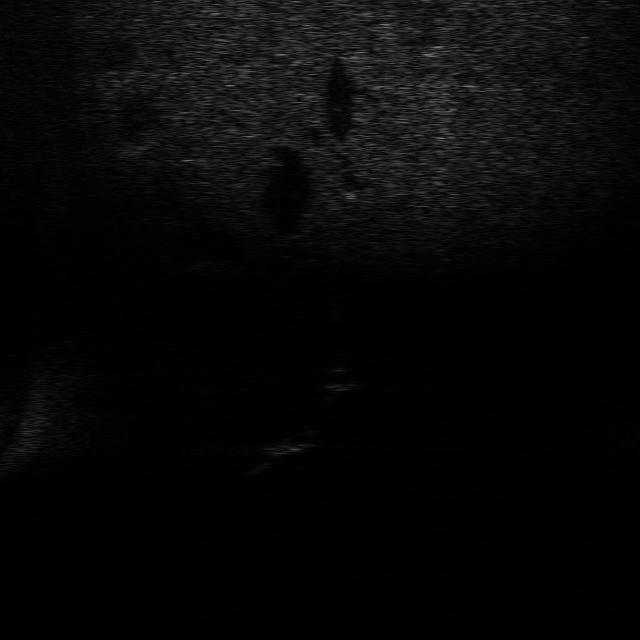ball: (308, 360, 364, 394)
square cage: (248, 426, 326, 463)
